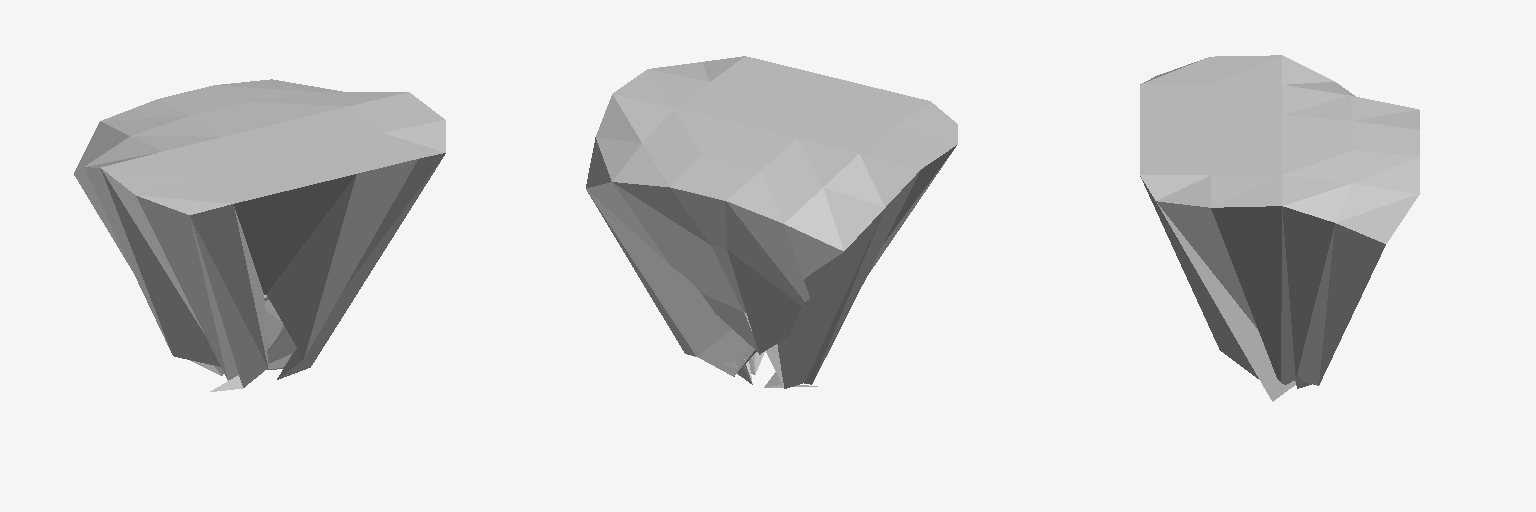
The model's file is stone0018.obj.
3 views of the same model, side by side, from view 1: azimuth 30°, elevation 25°; view 2: azimuth 150°, elevation 25°; view 3: azimuth 270°, elevation 25° (orthographic).
Visible parts, largest first — view 1: Landscape.005; view 2: Landscape.005; view 3: Landscape.005.
Part boxes in pixels (left/top/right/bottom): Landscape.005: left=74, top=79, right=445, bottom=391; Landscape.005: left=586, top=56, right=957, bottom=388; Landscape.005: left=1140, top=55, right=1419, bottom=401.
Size of the model in its own units: 0.7176 by 0.5576 by 0.5625.